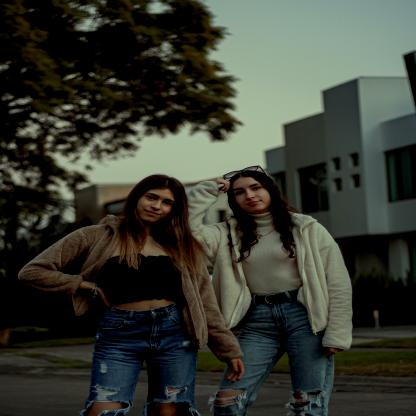dress: (187, 210, 356, 352)
jacket: (89, 254, 184, 307)
